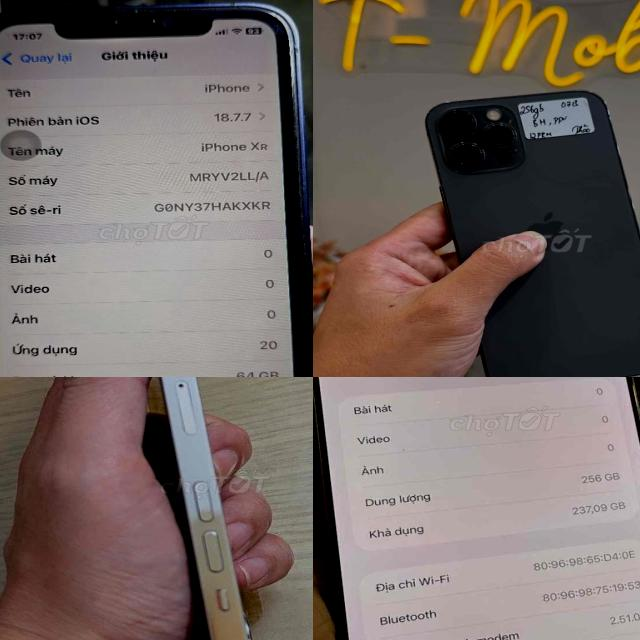gen_12_13: (420, 87, 640, 377)
gen_14: (113, 377, 309, 640)
gen_16: (313, 377, 640, 640)
gen_x_xs: (0, 0, 313, 377)
